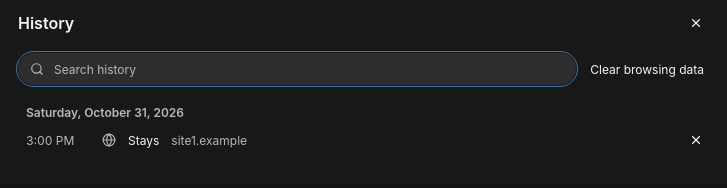
keeps a visit and reports the error when removal fails
Click the button named "Remove Stays from history".
click(696, 140)  # box [682,126,710,154]
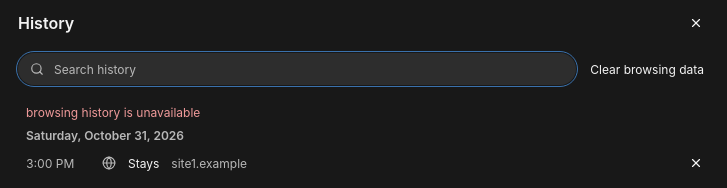
Check: the text "Stays" is shown, box [128,156,159,170]
Check: the message reads "browsing history is unavailable", box [26,105,200,120]
